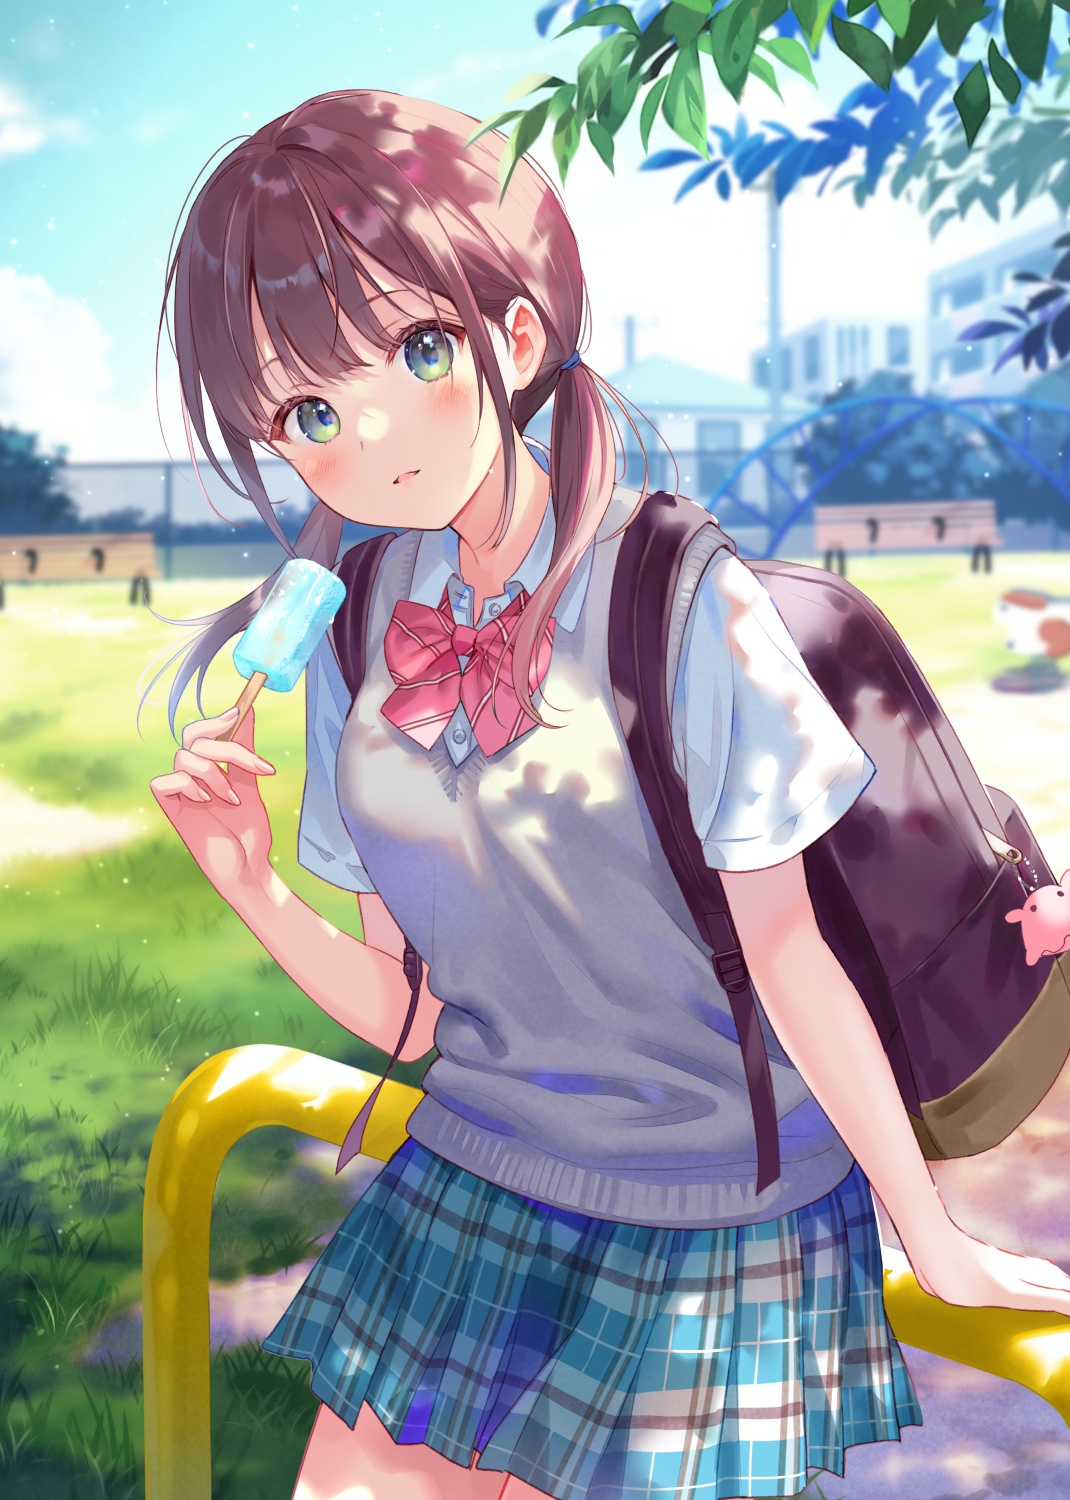纸片人正脸: (155, 85, 593, 546)
